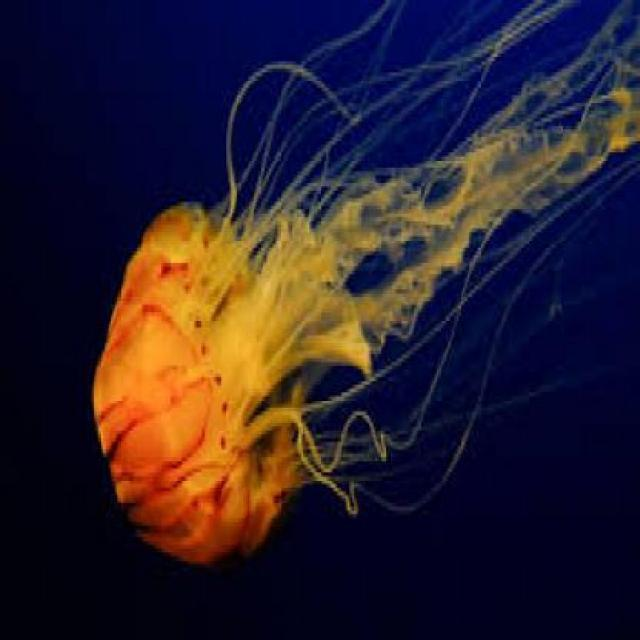Jellyfish: (80, 61, 638, 554)
